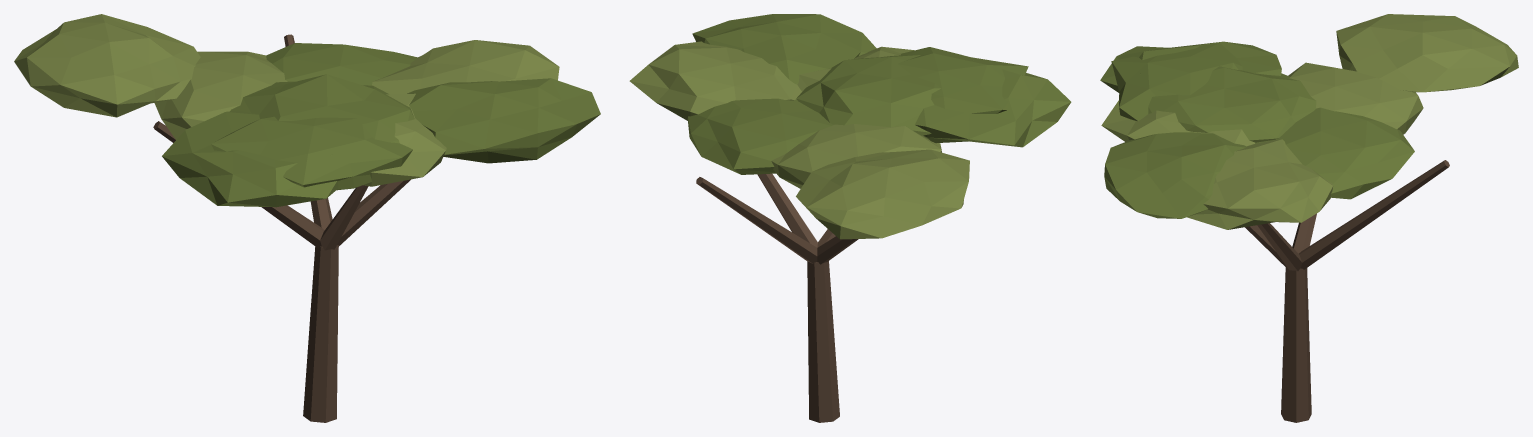
File: DE_Tree_Acacia.obj
3 views of the same model, side by side, from view 1: azimuth 30°, elevation 25°; view 2: azimuth 150°, elevation 25°; view 3: azimuth 270°, elevation 25° (orthographic). The views are drawn at different scales.
Parts seen in each view (by area): view 1: canopy_5, canopy_6, canopy_2, canopy_0, canopy_4, canopy_1, canopy_7, trunk, canopy_8, canopy_3, branch_2, branch_0 (+2 smaller); view 2: canopy_5, canopy_1, canopy_8, canopy_4, canopy_6, canopy_0, canopy_2, canopy_7, trunk, branch_3, branch_0, canopy_3 (+1 smaller); view 3: canopy_5, canopy_6, canopy_1, canopy_4, canopy_8, canopy_2, canopy_7, trunk, branch_3, canopy_0, canopy_3, branch_0 (+1 smaller).
Boxes of the visible parts, <box> form: canopy_5: <box>14,14,200,117</box>; canopy_6: <box>407,78,600,163</box>; canopy_2: <box>211,116,412,190</box>; canopy_0: <box>162,110,338,207</box>; canopy_4: <box>230,74,414,143</box>; canopy_1: <box>372,40,559,94</box>; canopy_7: <box>154,51,287,139</box>; trunk: <box>303,245,338,422</box>; canopy_8: <box>266,43,417,85</box>; canopy_3: <box>363,93,446,186</box>; branch_2: <box>153,121,324,248</box>; branch_0: <box>337,179,410,245</box>; canopy_5: <box>796,149,969,239</box>; canopy_1: <box>629,41,801,120</box>; canopy_8: <box>687,98,832,174</box>; canopy_4: <box>796,54,940,135</box>; canopy_6: <box>692,14,876,84</box>; canopy_0: <box>915,60,1071,147</box>; canopy_2: <box>898,47,1028,113</box>; canopy_7: <box>771,124,941,188</box>; trunk: <box>807,261,839,422</box>; branch_3: <box>696,177,817,263</box>; branch_0: <box>757,173,817,247</box>; canopy_3: <box>797,46,914,91</box>; canopy_5: <box>1336,14,1518,92</box>; canopy_6: <box>1104,132,1246,218</box>; canopy_1: <box>1187,139,1332,229</box>; canopy_4: <box>1148,66,1316,142</box>; canopy_8: <box>1255,107,1414,199</box>; canopy_2: <box>1111,43,1242,120</box>; canopy_7: <box>1288,62,1423,134</box>; trunk: <box>1281,267,1311,422</box>; branch_3: <box>1299,160,1449,269</box>; canopy_0: <box>1100,41,1281,92</box>; canopy_3: <box>1101,100,1254,146</box>; branch_0: <box>1257,223,1302,271</box>.
Size of the model in its own units: 18.36 by 14.63 by 17.26.
